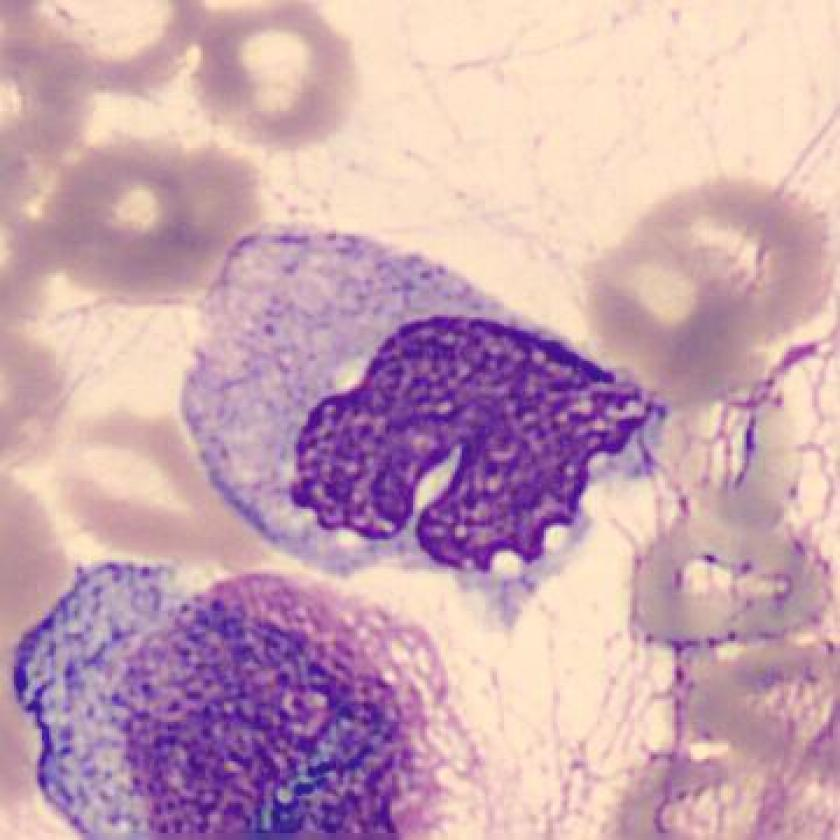monocyte: (165, 200, 690, 617)
